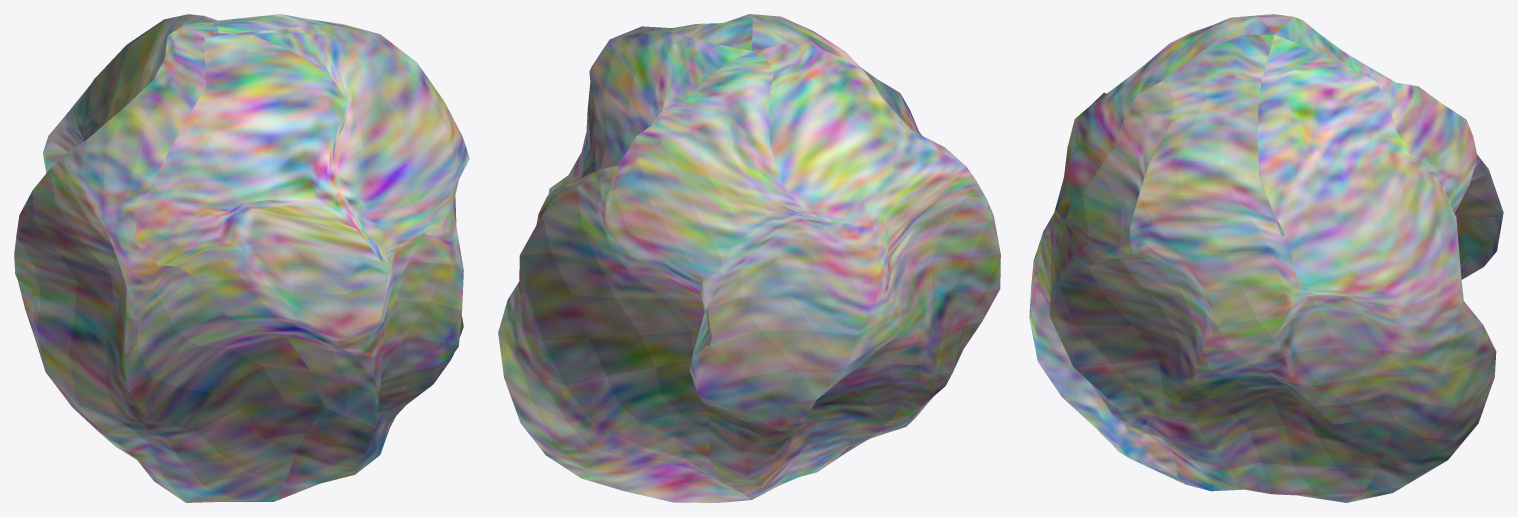
3 views of the same model, side by side, from view 1: azimuth 30°, elevation 25°; view 2: azimuth 150°, elevation 25°; view 3: azimuth 270°, elevation 25° (orthographic).
Parts seen in each view (by area): view 1: pMesh1; view 2: pMesh1; view 3: pMesh1.
Boxes of the visible parts, x1,y1,x2,y2 form: pMesh1: [14, 14, 469, 502]; pMesh1: [498, 14, 1000, 502]; pMesh1: [1029, 14, 1503, 502].
Bounding box in the file's own units: 2.17 × 2.32 × 2.33.
1 material, 1 textured.
